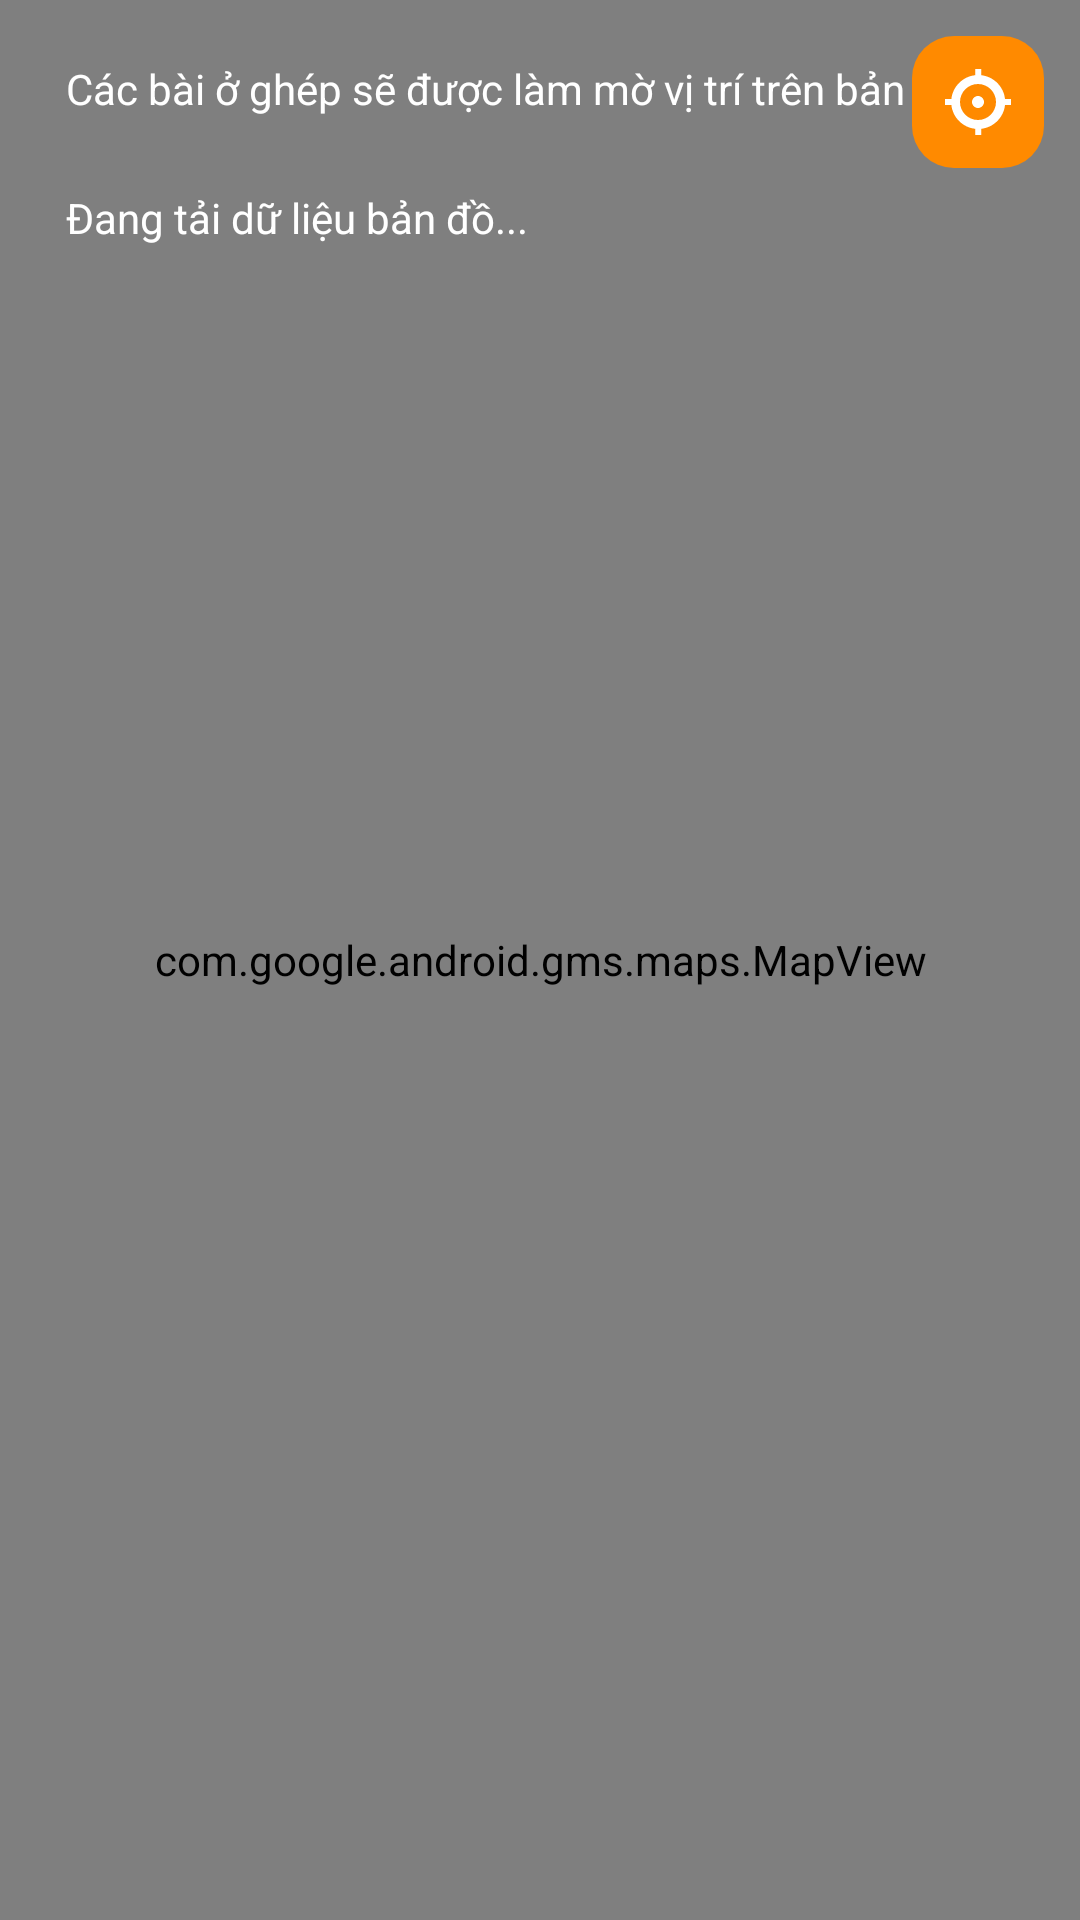

Icons on this 1080px×1920px Android screen, each with its box as (x1, y1, x2, y2):
Lấy lại GPS: (912, 36, 1044, 168)
